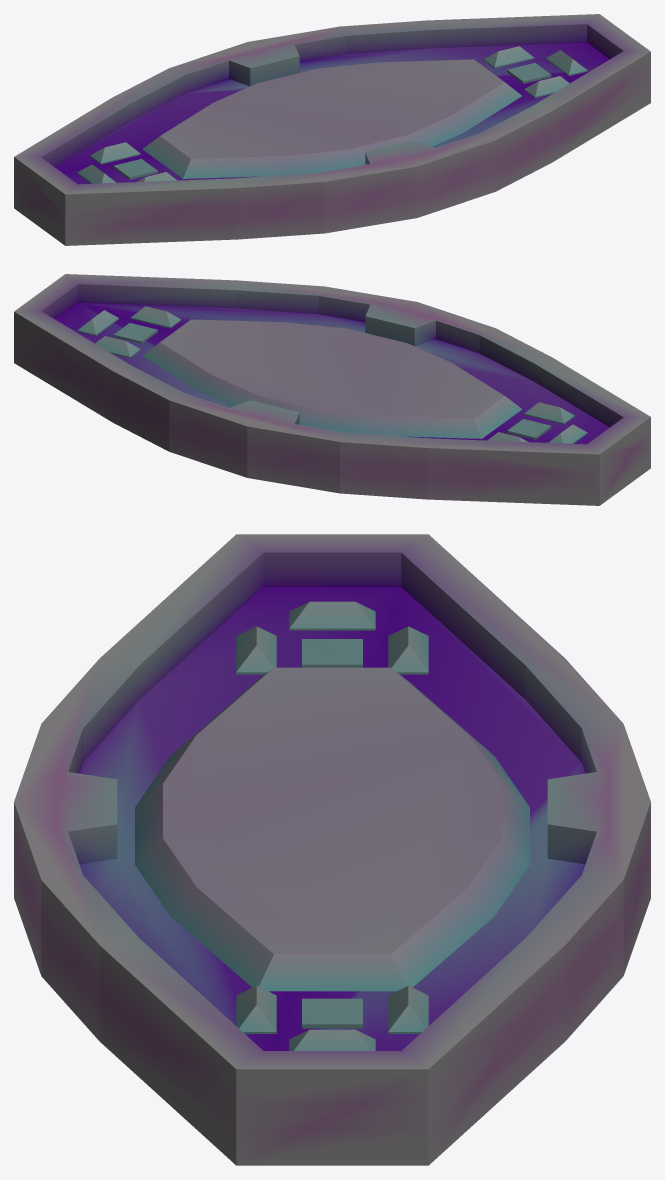
The picture shows the model from 3 angles, top to bottom: view 1: azimuth 30°, elevation 25°; view 2: azimuth 150°, elevation 25°; view 3: azimuth 270°, elevation 25°; orthographic projection. The views are drawn at different scales.
Parts seen in each view (by area): view 1: border, central_pad, wedge.006, wedge.003, square.001, square, wedge.002, wedge.001, wedge.004; view 2: border, central_pad, wedge.005, wedge.002, square.001, square, wedge.003, wedge.001, wedge.004; view 3: border, central_pad, wedge.004, square, square.001, wedge.002, wedge.003, wedge.005, wedge.006, wedge.001.
Part boxes in pixels (x1=…): border: x1=14, y1=14, x2=650, y2=245; central_pad: x1=142, y1=59, x2=521, y2=178; wedge.006: x1=90, y1=142, x2=140, y2=164; wedge.003: x1=483, y1=46, x2=534, y2=68; square.001: x1=113, y1=159, x2=157, y2=179; square: x1=507, y1=63, x2=551, y2=83; wedge.002: x1=524, y1=76, x2=569, y2=98; wedge.001: x1=546, y1=50, x2=587, y2=75; wedge.004: x1=77, y1=164, x2=116, y2=183; border: x1=14, y1=274, x2=650, y2=505; central_pad: x1=143, y1=319, x2=522, y2=438; wedge.005: x1=524, y1=402, x2=574, y2=424; wedge.002: x1=130, y1=306, x2=181, y2=328; square.001: x1=507, y1=419, x2=551, y2=439; square: x1=113, y1=323, x2=157, y2=343; wedge.003: x1=95, y1=336, x2=140, y2=358; wedge.001: x1=77, y1=310, x2=118, y2=335; wedge.004: x1=548, y1=424, x2=587, y2=443; border: x1=14, y1=534, x2=650, y2=1165; central_pad: x1=135, y1=667, x2=529, y2=991; wedge.004: x1=289, y1=601, x2=375, y2=630; square: x1=302, y1=998, x2=362, y2=1028; square.001: x1=302, y1=639, x2=362, y2=667; wedge.002: x1=236, y1=985, x2=276, y2=1033; wedge.003: x1=388, y1=985, x2=428, y2=1033; wedge.005: x1=236, y1=626, x2=276, y2=674; wedge.006: x1=388, y1=626, x2=428, y2=674; wedge.001: x1=289, y1=1029, x2=375, y2=1050.
Bounding box in the file's own units: 0.5 × 0.042 × 0.2516.
